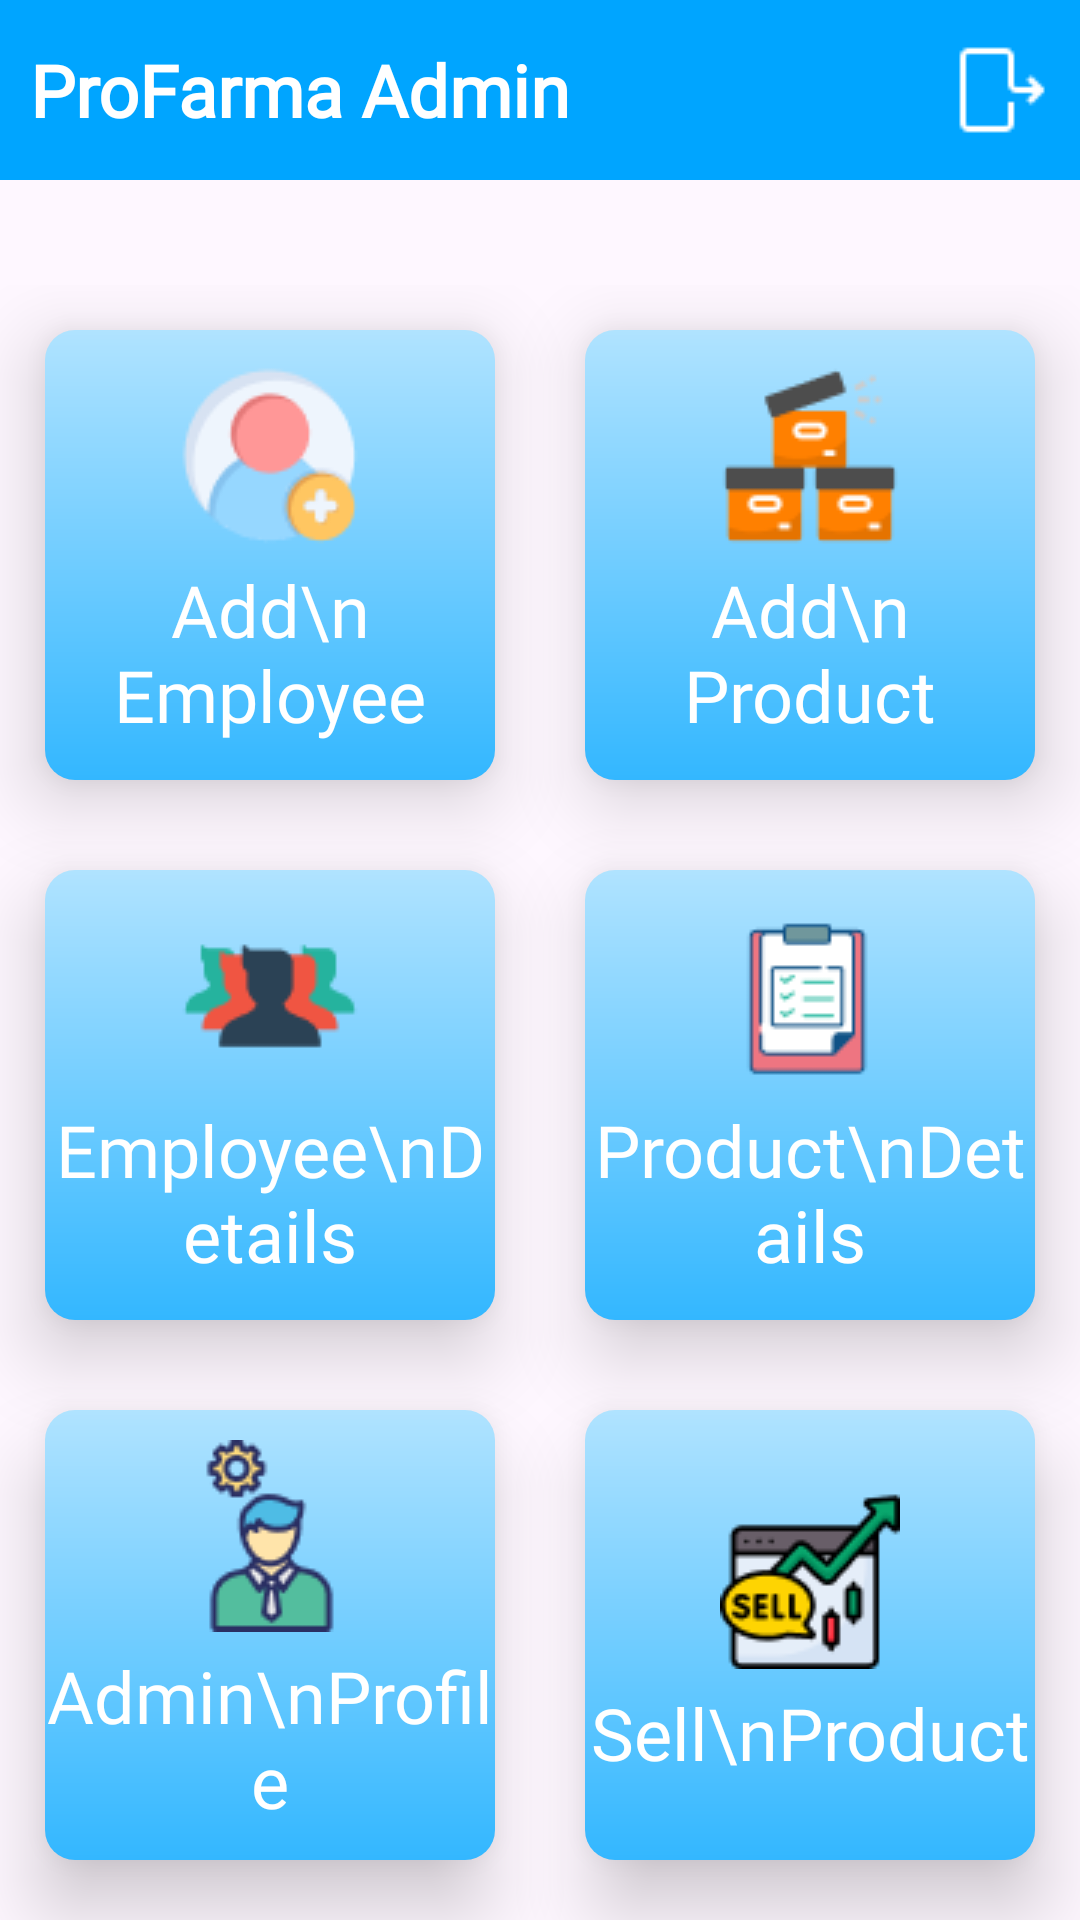

Icons on this 1080×1920 Android screen, each with the point to tap as point (x, y):
add user: point (270, 456)
all products: point (810, 996)
employees: point (270, 996)
products: point (810, 456)
